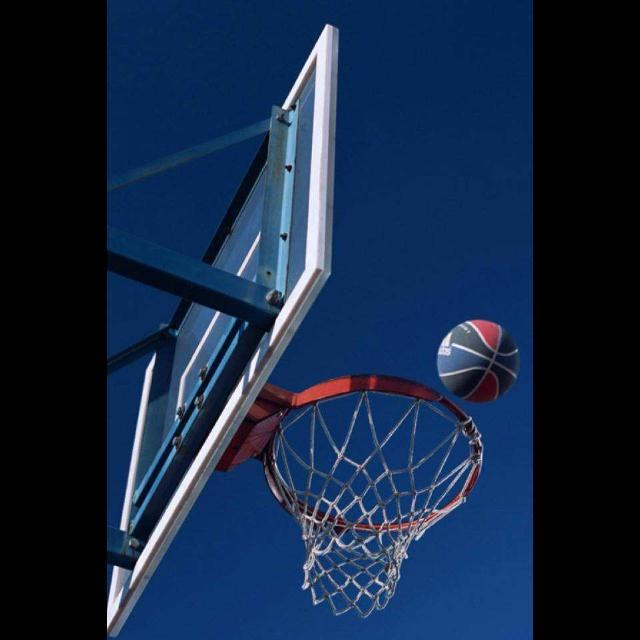basketball: (440, 320, 518, 400)
rim: (264, 376, 481, 616)
